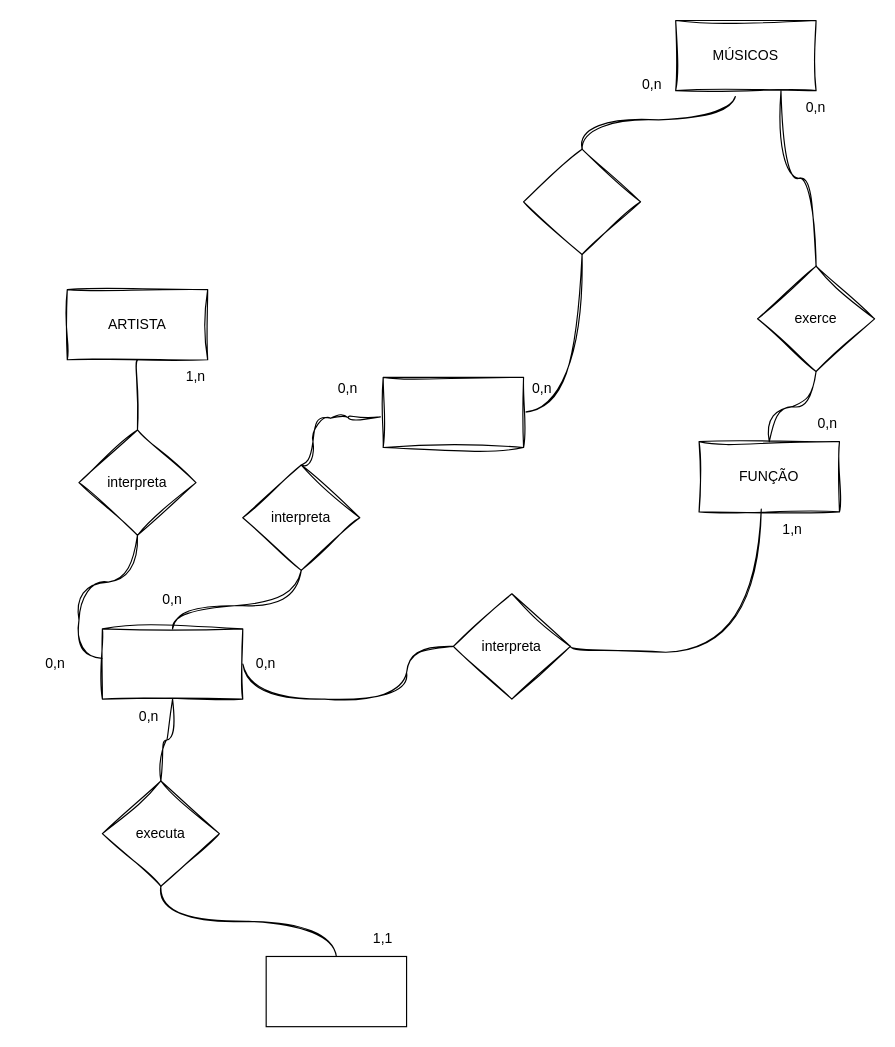
This 895x1047 diagram has some shape labels left out. The shapes that lost their labels are listed below. From the top down, each one's centre as x and y in pixels, then its label:
At (x=581, y=201): "auxilia".
At (x=453, y=412): "ESCALA CULTO".
At (x=172, y=663): "MÚSICAS".
At (x=336, y=991): "TONALIDADES".
